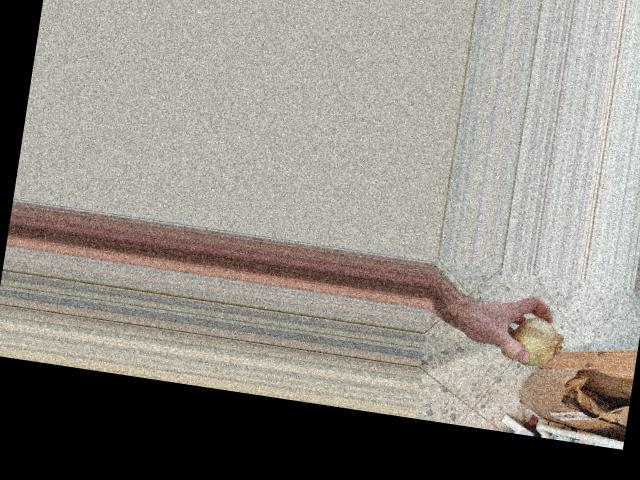onion: (494, 307, 568, 374)
